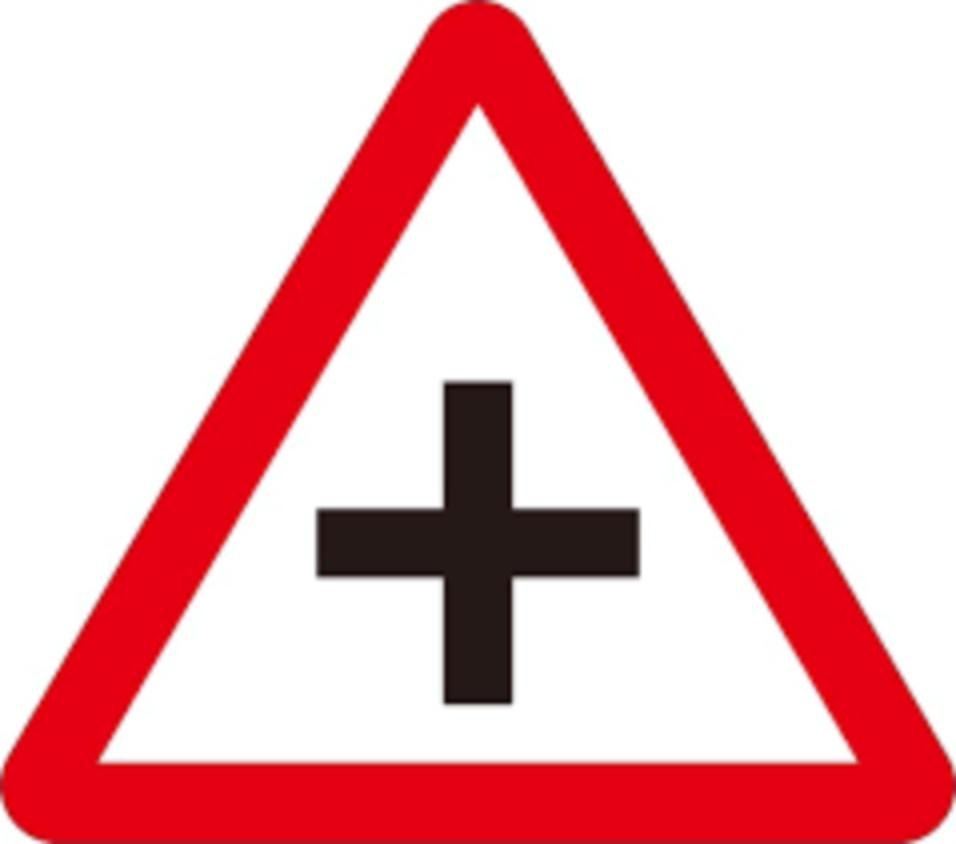fork_road: (4, 0, 944, 843)
